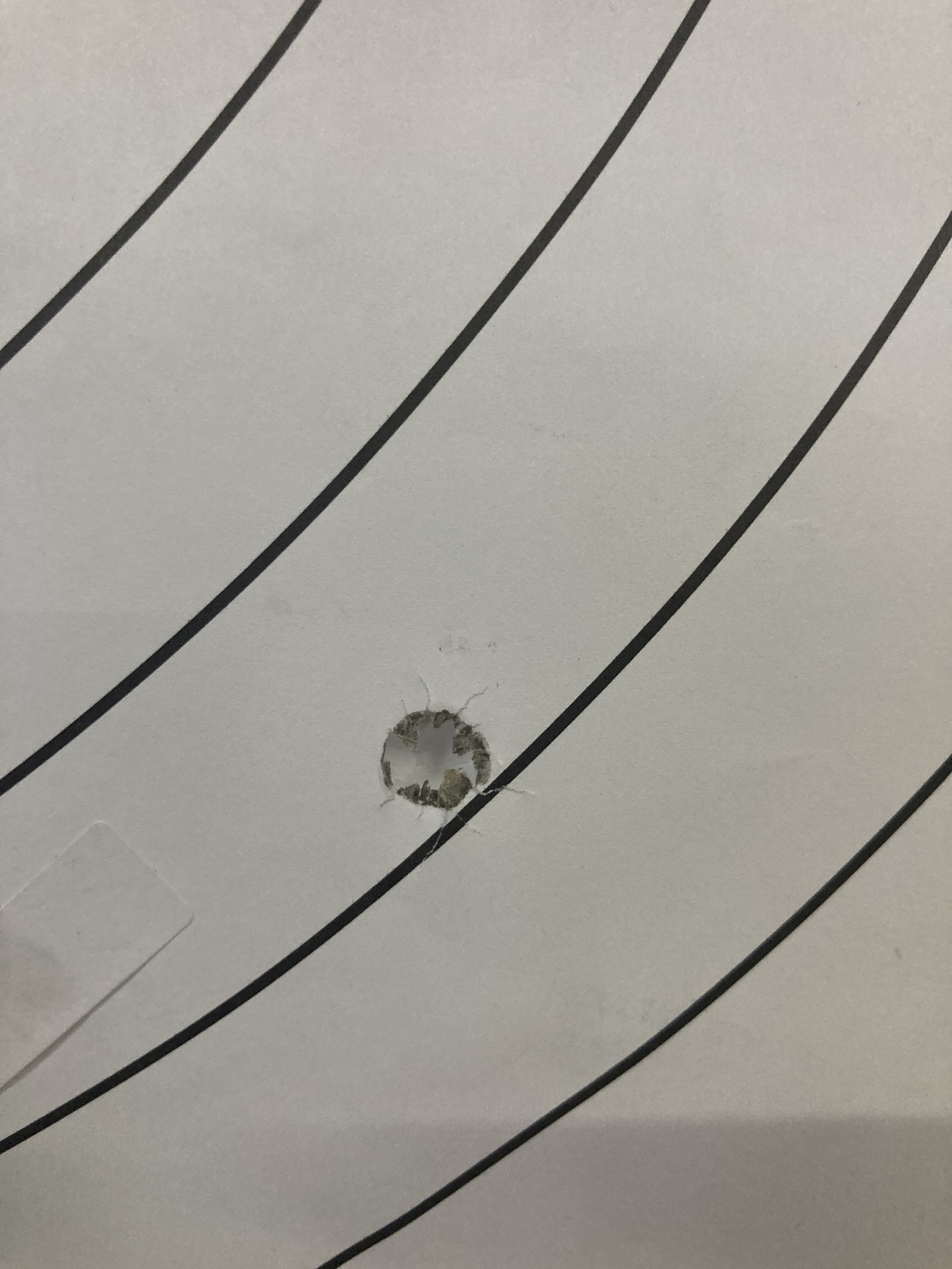hole: (356, 686, 529, 875)
